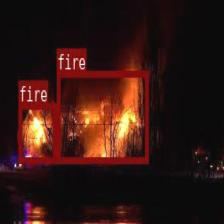fire: (56, 71, 148, 162), (18, 102, 56, 162)
